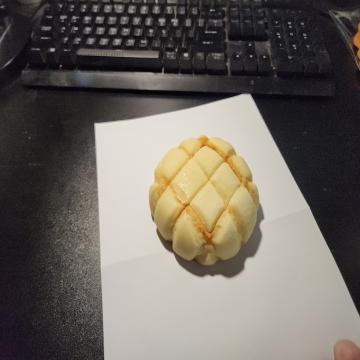melon_bread: (148, 134, 260, 268)
